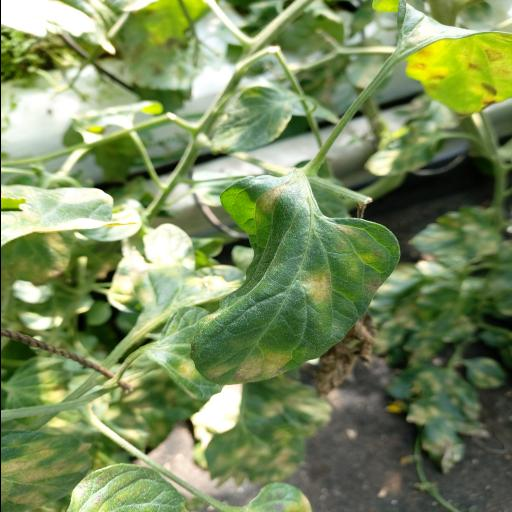disease_tomato: (186, 177, 398, 385)
